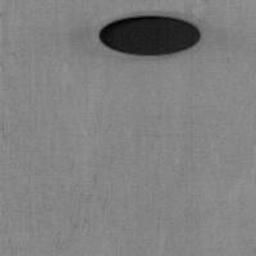Punching: (100, 15, 200, 55)
